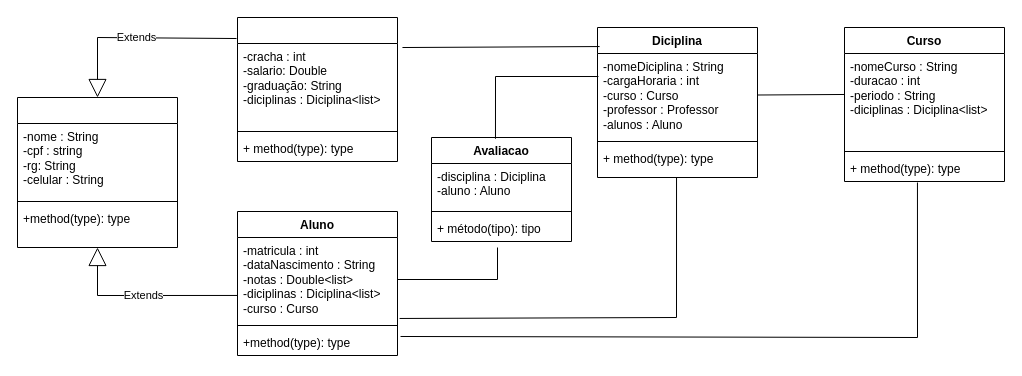
This 1022x376 diagram has some shape labels left out. The shapes that lost their labels are listed below. From the top down, each one's box as (x1, y1, x2, y2) in pixels, then its label:
(236, 16, 398, 162): Professor
(16, 96, 178, 248): Pessoa
